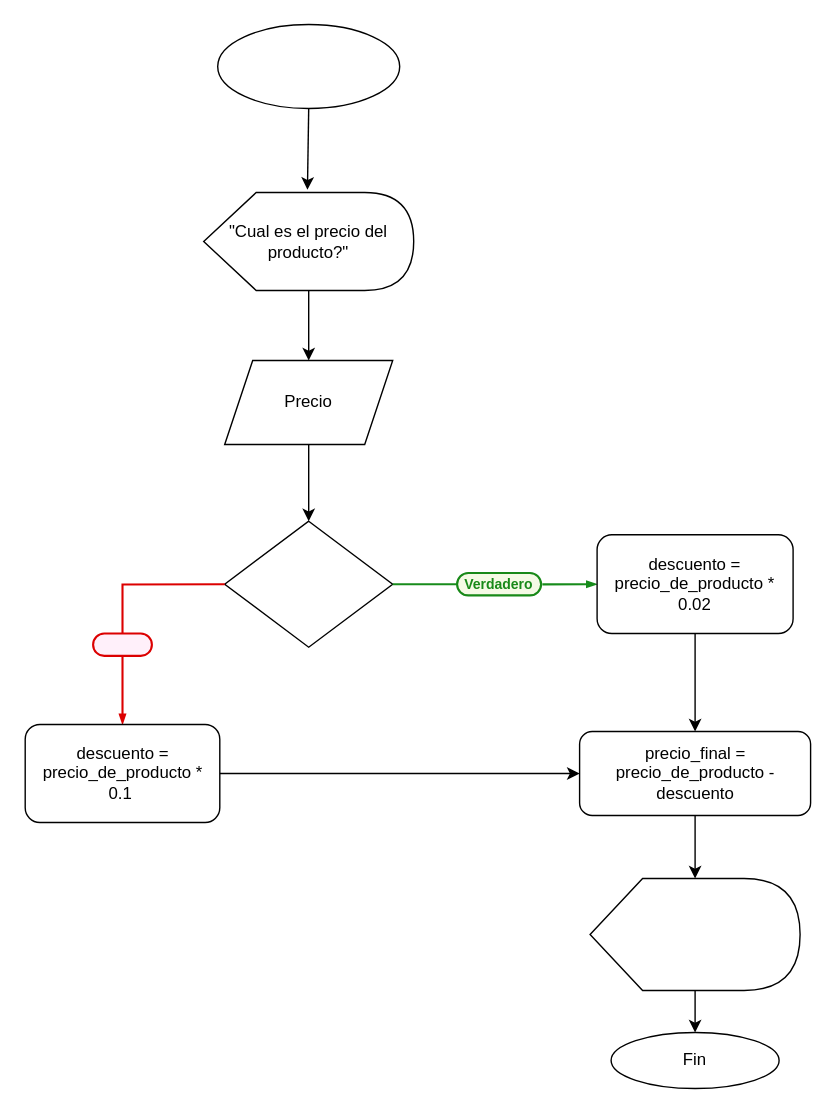
The diagram is 834 pixels wide and 1113 high, and some of its shapes have lost their labels. The centre of each missing label's shape, as x and y in pixels:
"El precio final es de" precio_final: [694,933]
Falso: [121,644]
INICIO: [308,65]
Precio < 100: [308,583]
